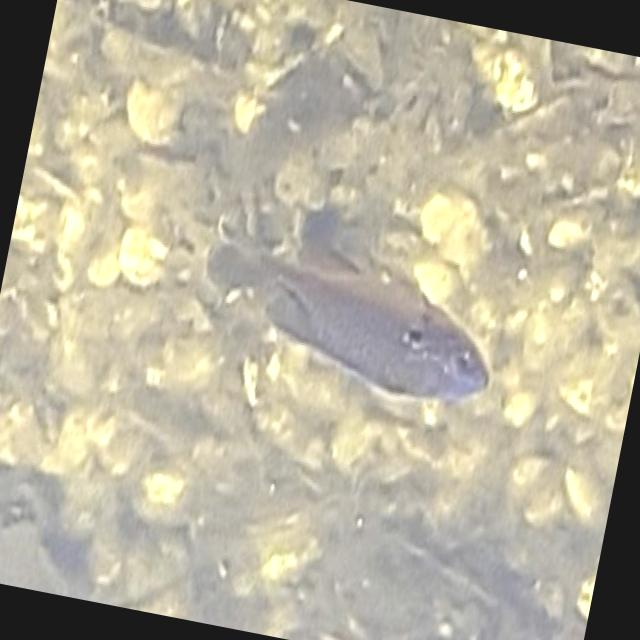Gunes Levregi: (182, 217, 512, 409)
